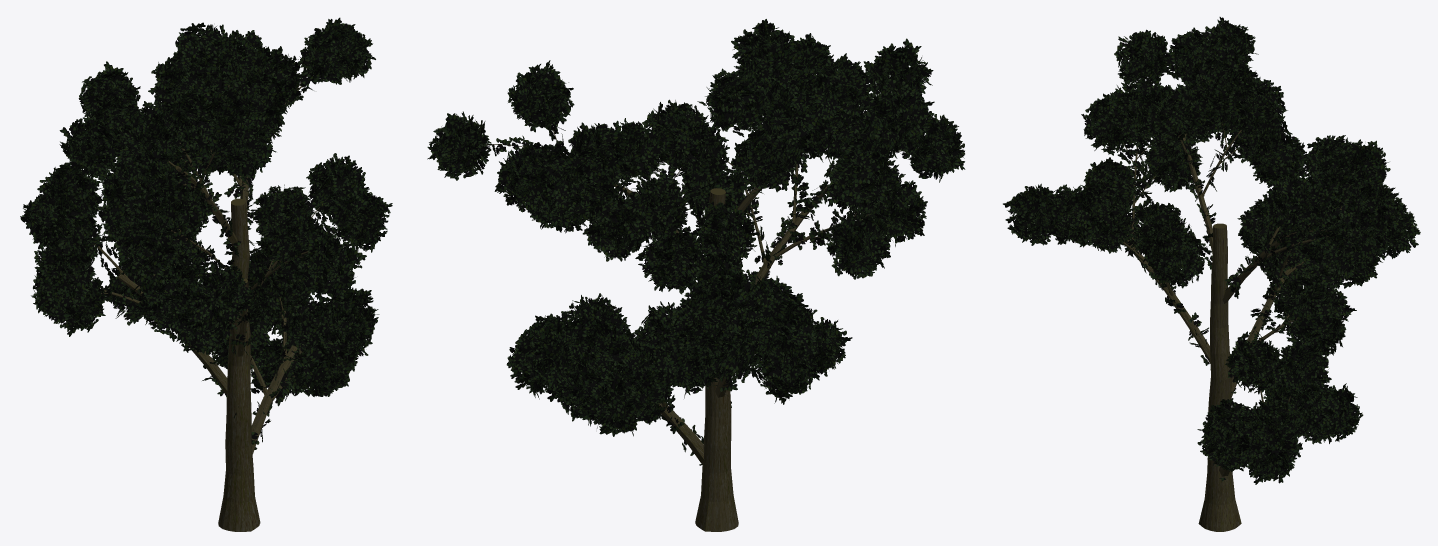
The model's file is evergreen_broad_v02.fbx.
The picture shows the model from 3 angles, left to right: view 1: azimuth 30°, elevation 25°; view 2: azimuth 150°, elevation 25°; view 3: azimuth 270°, elevation 25°; orthographic projection. The views are drawn at different scales.
Visible parts, largest first — view 1: evergreen_broad_v02; view 2: evergreen_broad_v02; view 3: evergreen_broad_v02.
Boxes of the visible parts, box(x1,y1,x2,y2) form: evergreen_broad_v02: box(20, 17, 392, 531); evergreen_broad_v02: box(427, 19, 965, 531); evergreen_broad_v02: box(1003, 17, 1420, 531).
Bounding box in the file's own units: 2003 × 2001 × 2350.
2 materials, 2 textured.
